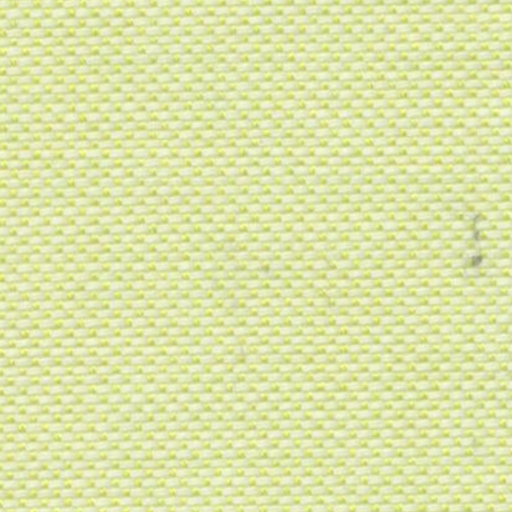WuZi: (454, 196, 500, 286)
